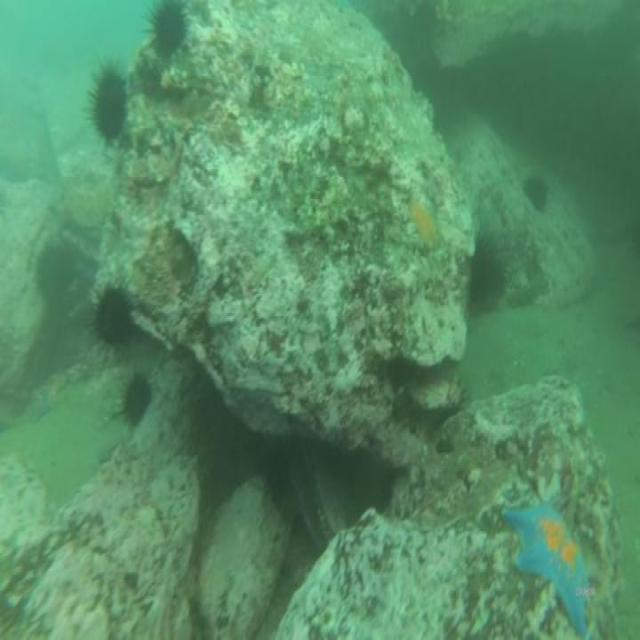echinus: (94, 280, 139, 360), (92, 63, 134, 147), (471, 232, 509, 318), (143, 2, 192, 63), (115, 367, 154, 433), (524, 170, 551, 217)
starfish: (500, 498, 598, 635)
